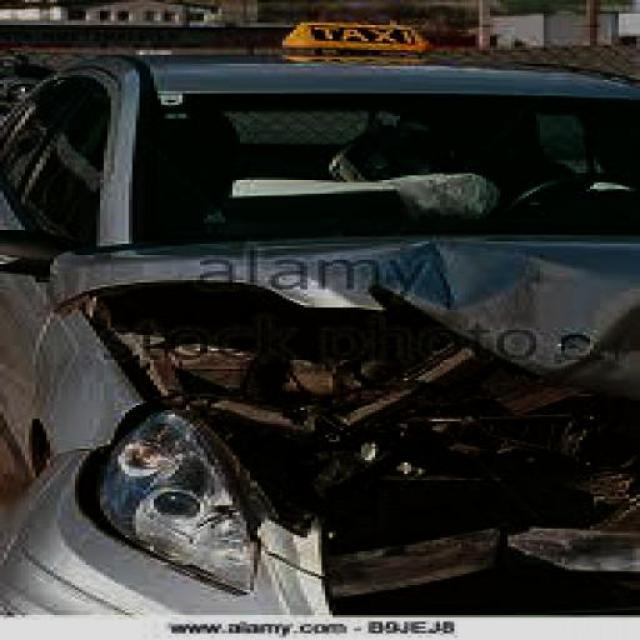car damage: (2, 240, 635, 619)
